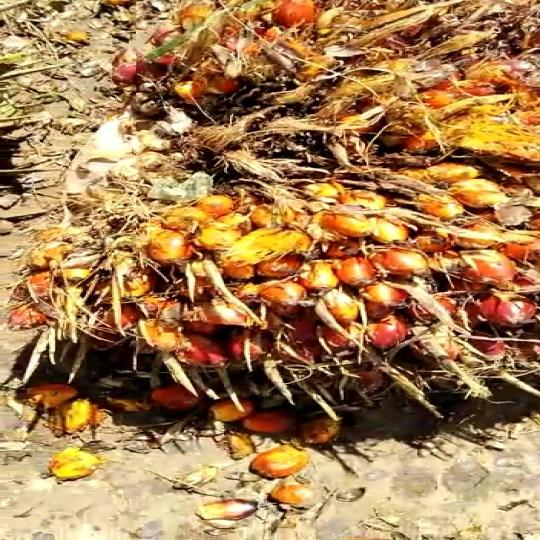masak: (17, 0, 540, 423)
